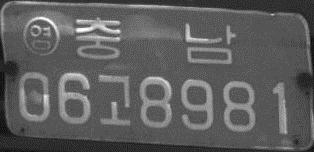0: (18, 70, 51, 123)
1: (263, 82, 296, 135)
6: (57, 71, 92, 125)
8: (137, 74, 173, 128), (222, 80, 256, 134)
9: (179, 78, 214, 131)
고: (96, 73, 132, 127)
영: (22, 15, 59, 56)
충남_D: (74, 15, 236, 65)
